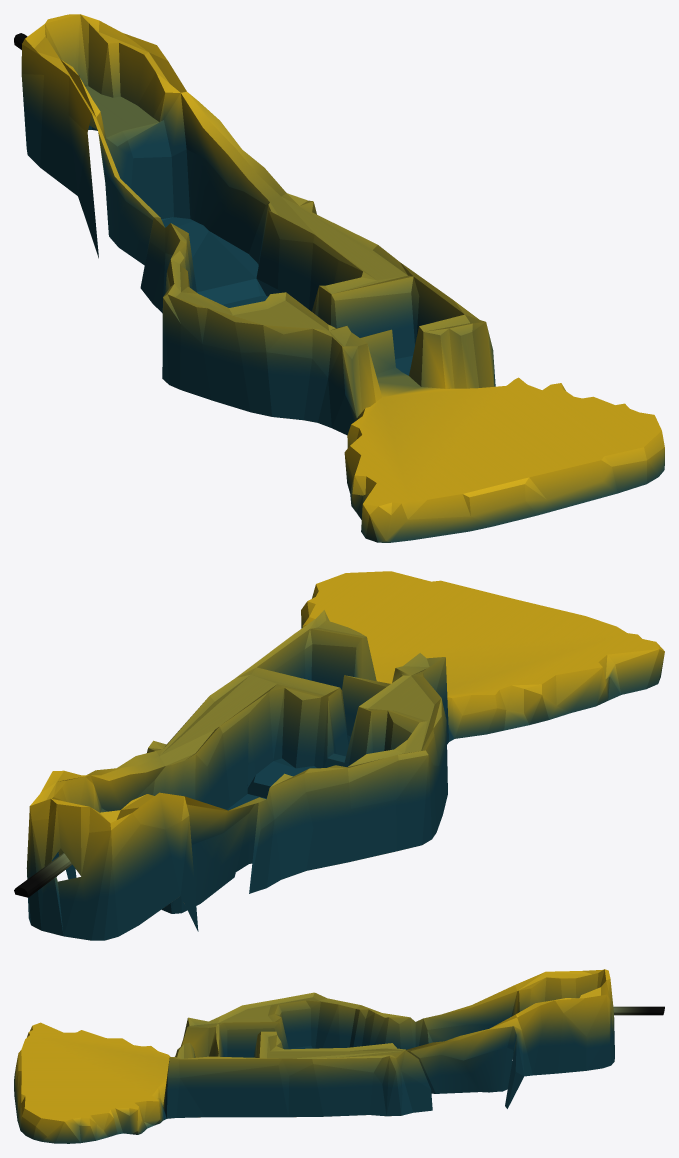
The model's file is MOD_Level6_versie1.fbx.
The picture shows the model from 3 angles, top to bottom: view 1: azimuth 30°, elevation 25°; view 2: azimuth 150°, elevation 25°; view 3: azimuth 270°, elevation 25°; orthographic projection. The views are drawn at different scales.
Visible parts, largest first — view 1: MOD_Level6; view 2: MOD_Level6; view 3: MOD_Level6.
Part boxes in pixels (x1=…): MOD_Level6: x1=14, y1=14, x2=664, y2=542; MOD_Level6: x1=14, y1=571, x2=664, y2=940; MOD_Level6: x1=14, y1=969, x2=664, y2=1143.
Size of the model in its own units: 15.38 by 8.18 by 42.72.
